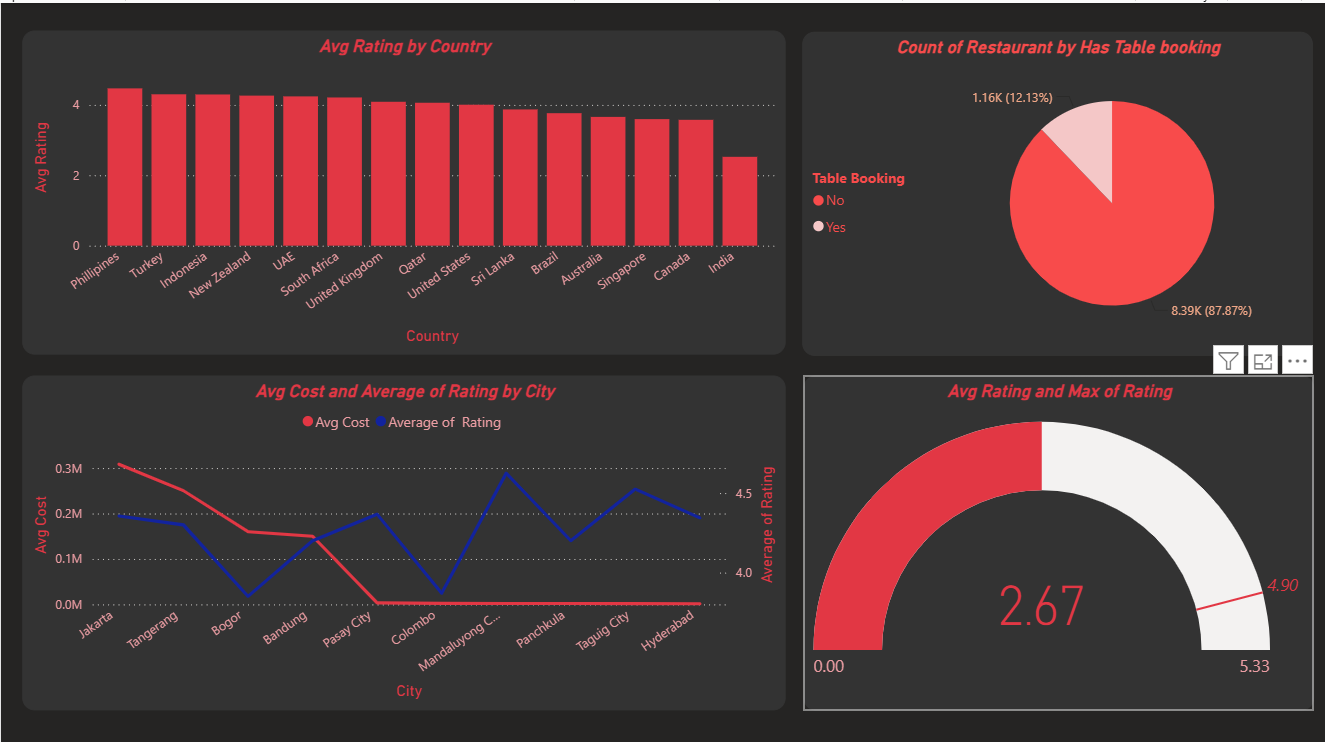

This screenshot's page, from the dashboard's own definition file:
{"tool":"powerbi","page":{"name":"Page 2","canvas":[1280,720],"ordinal":1},"visuals":[{"type":"clusteredColumnChart","fields":{"Category":["Sheet1.Country"],"Y":["zomato.Avg Rating"]},"box":[20,27.1,737.1,312.9],"z":0},{"type":"pieChart","fields":{"Category":["zomato.Has Table booking"],"Y":["CountNonNull(zomato.Restaurant)"]},"box":[773.9,27.4,492.6,312.9],"z":1000},{"type":"lineChart","fields":{"Y":["zomato.Avg Cost"],"Category":["zomato.City"],"Y2":["Avg(zomato. Rating)"]},"box":[20,360,737.1,322.9],"z":2000},{"type":"gauge","fields":{"Y":["zomato.Avg Rating"],"TargetValue":["Max(zomato. Rating)"]},"box":[774.3,360,492.9,322.9],"z":3000}]}

Visuals, with their boxes in screenshot pixels (x1, y1, x2, y2), scaled from the page's 1280x720 canvas onto the 1325x742 screenshot:
clusteredColumnChart - Sheet1.Country x zomato.Avg Rating: 21,28,784,350
pieChart - zomato.Has Table booking x CountNonNull(zomato.Restaurant): 801,28,1311,351
lineChart - zomato.Avg Cost x zomato.City: 21,371,784,704
gauge - zomato.Avg Rating x Max(zomato. Rating): 802,371,1312,704
